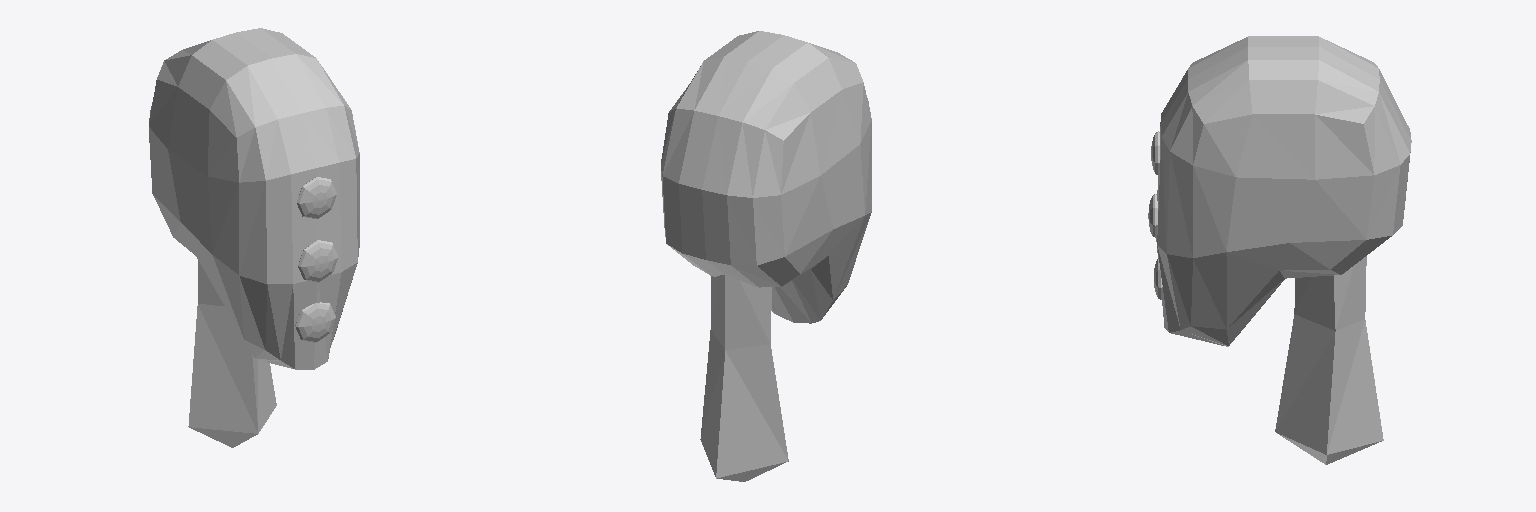
The model's file is head.obj.
The picture shows the model from 3 angles: view 1: azimuth 30°, elevation 25°; view 2: azimuth 150°, elevation 25°; view 3: azimuth 270°, elevation 25°; orthographic projection.
Parts seen in each view (by area): view 1: head.lwo; view 2: head.lwo; view 3: head.lwo.
Part boxes in pixels (left/top/right/bottom): head.lwo: left=149, top=28, right=359, bottom=447; head.lwo: left=661, top=31, right=871, bottom=481; head.lwo: left=1148, top=36, right=1411, bottom=464.
Size of the model in its own units: 0.1207 by 0.3428 by 0.1955.